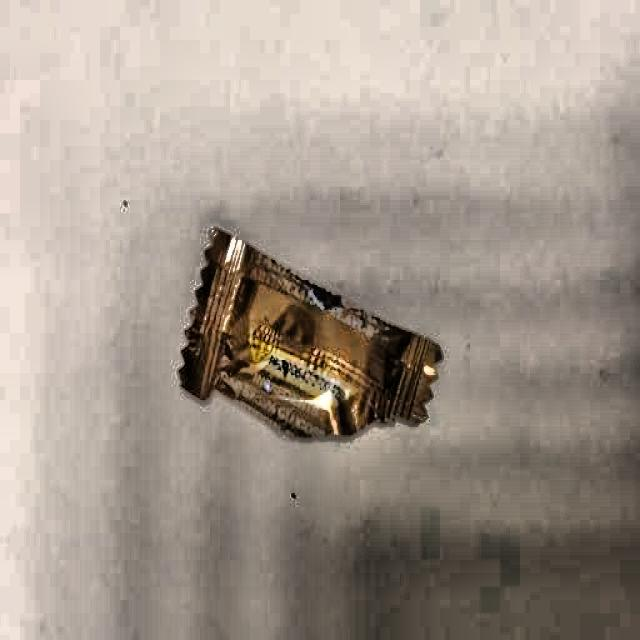trash: (174, 221, 434, 456)
